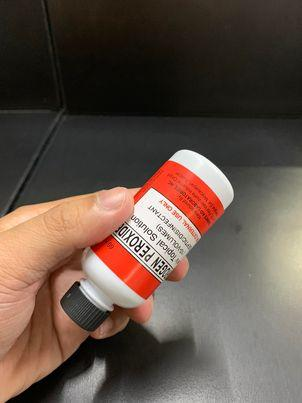-Bottle-: (59, 149, 236, 333)
